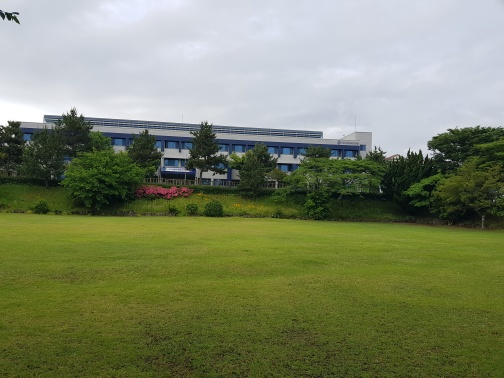College of Social Sciences: (19, 108, 374, 190)
